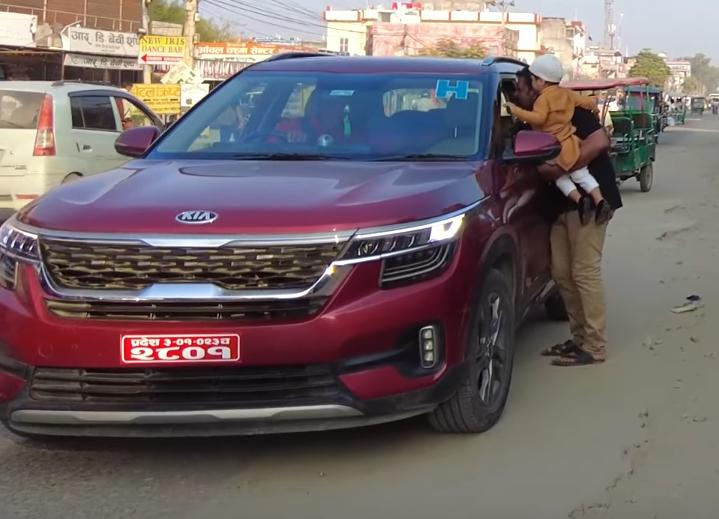car: (11, 37, 626, 434)
e-rickshaw: (562, 76, 662, 192), (666, 94, 689, 130)
